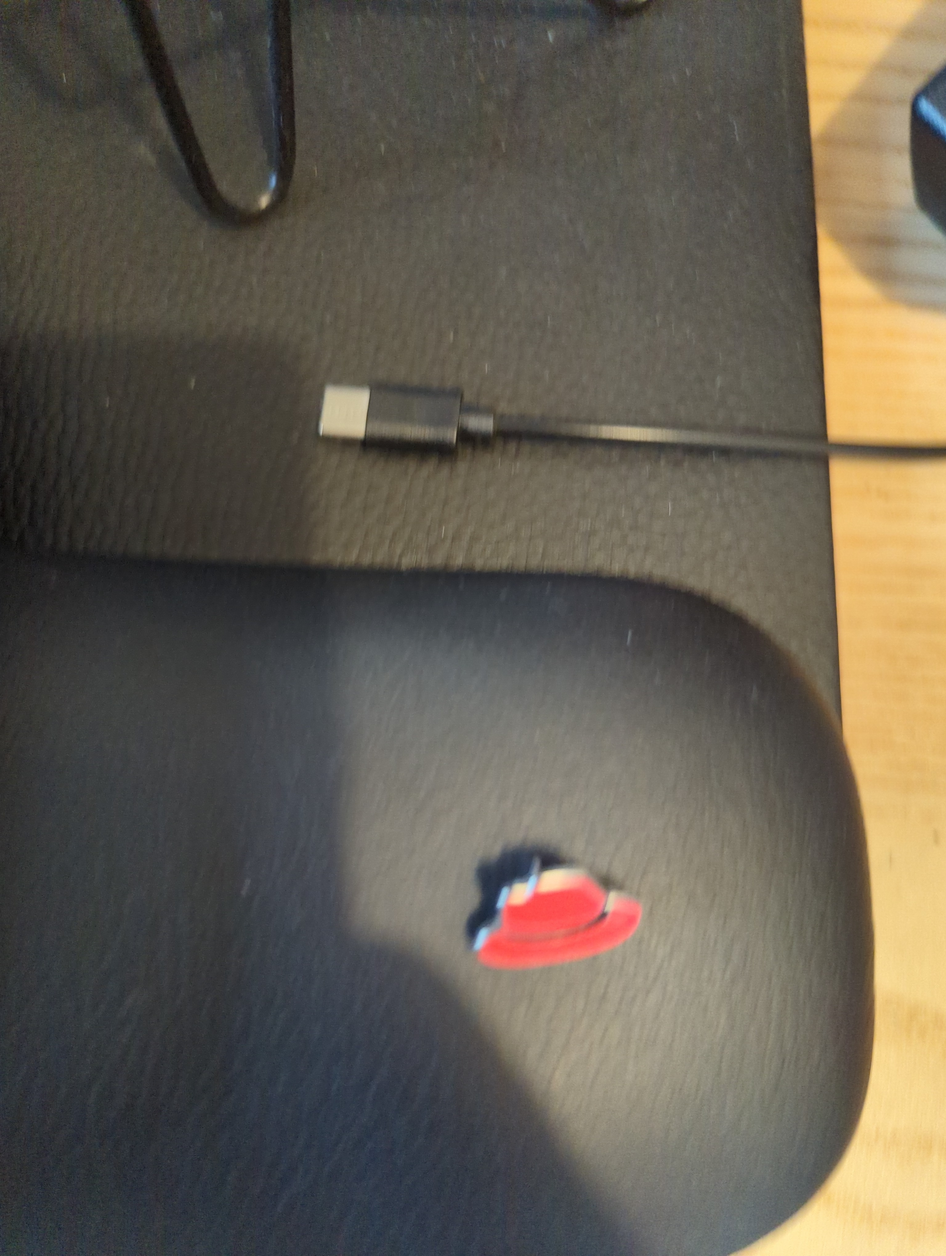Red-Hat: (392, 806, 738, 1035)
